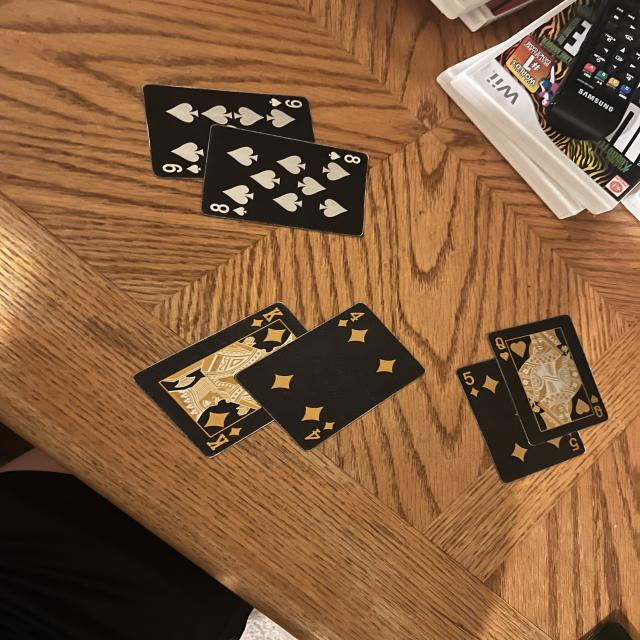4D: (301, 420, 344, 443), (333, 307, 366, 330)
5D: (458, 370, 481, 400), (565, 433, 583, 452)
8S: (325, 147, 368, 163), (207, 202, 252, 216)
9S: (158, 161, 204, 175), (268, 95, 304, 108)
KD: (249, 304, 288, 329), (204, 428, 247, 450)
QH: (493, 334, 519, 362), (587, 392, 604, 419)
